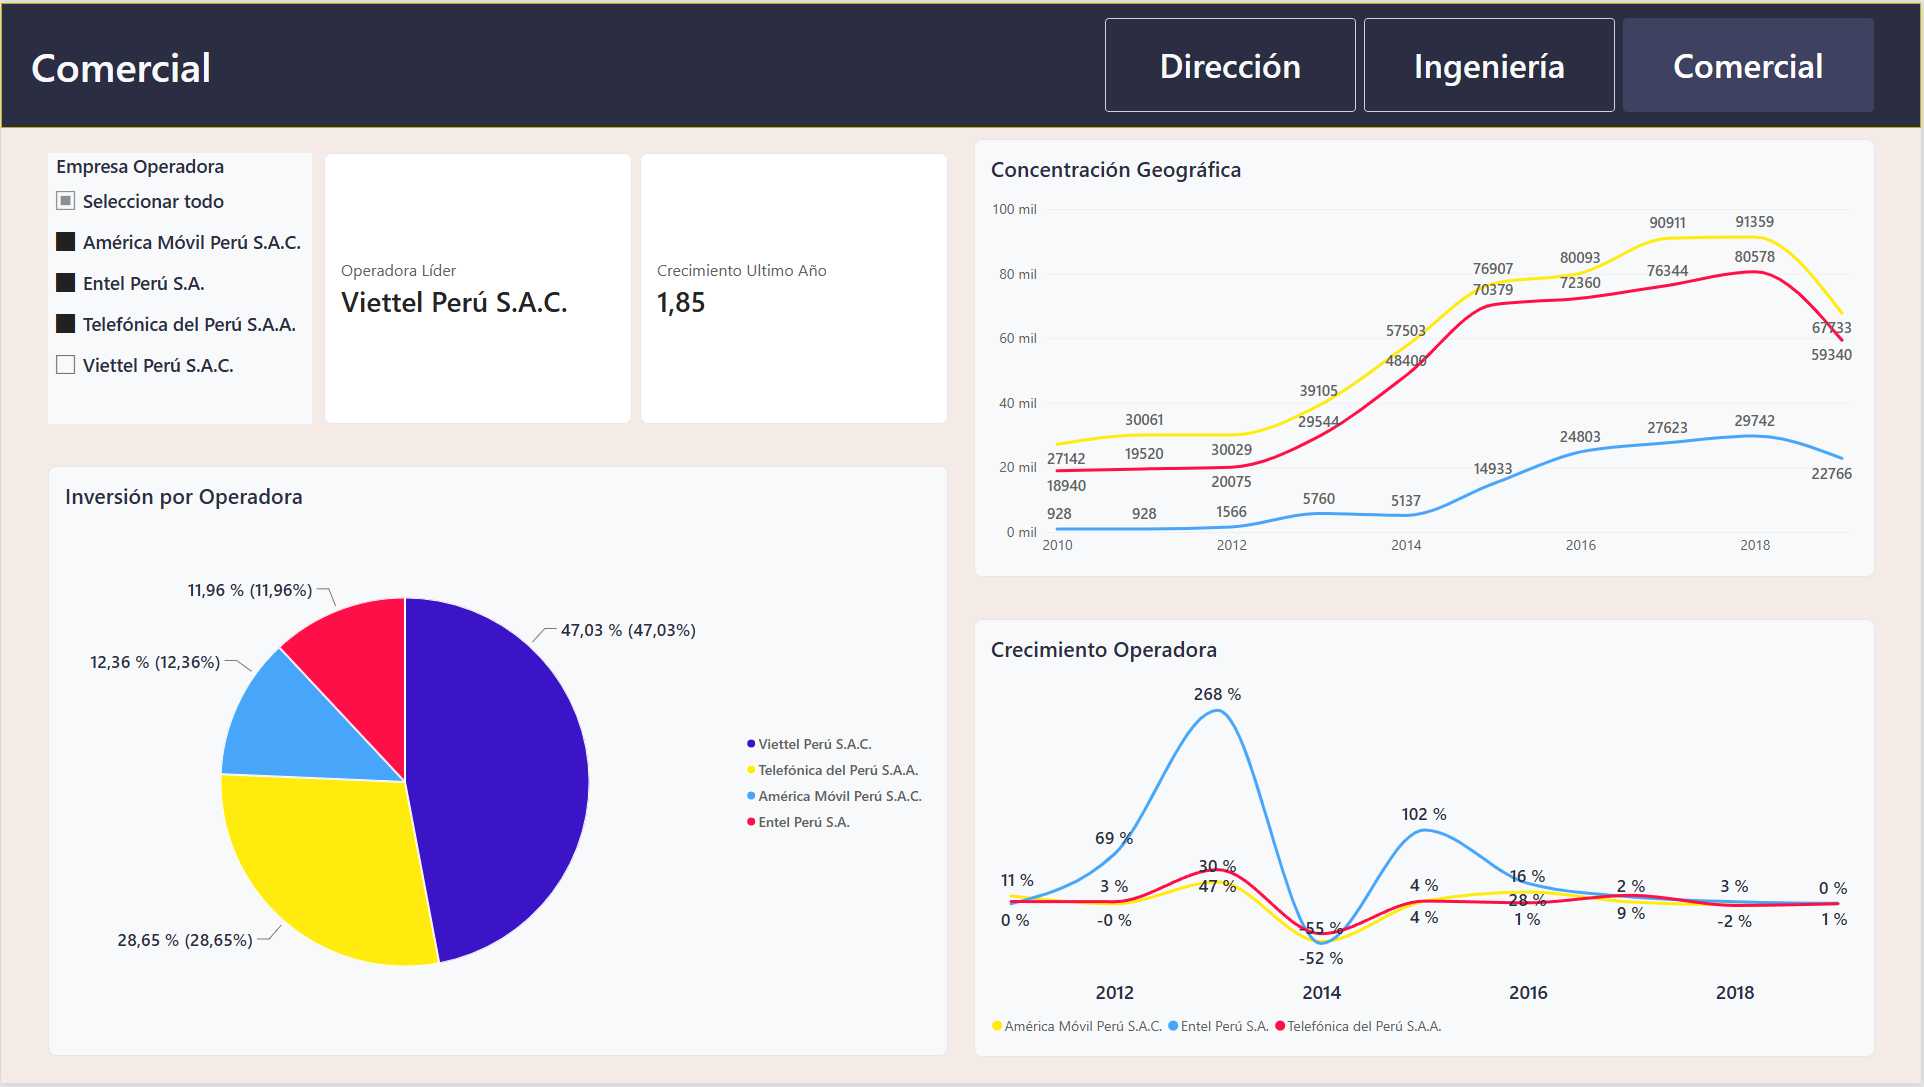

Layout of this report page (visuals, bound fields, positions):
{"tool":"powerbi","page":{"name":"Comercial","canvas":[1920,1080],"ordinal":2},"visuals":[{"type":"textbox","box":[0,0,13.7,120.1],"z":0},{"type":"shape","box":[0,0,1920,124.8],"z":1000},{"type":"lineChart","title":"Crecimiento Operadora","fields":{"Category":["CobHist_TrimestreAlto.anio"],"Series":["CobHist_TrimestreAlto.empresa_operadora"],"Y":["_Medidas.Crecimiento % Historico"]},"box":[972.6,615.9,901.1,437.8],"z":2000},{"type":"lineChart","title":"Concentración Geográfica","fields":{"Category":["cobertura_historica.anio"],"Series":["cobertura_historica.empresa_operadora"],"Y":["Sum(cobertura_historica.centros_con_cobertura)"]},"box":[972.6,136.3,901.1,437.8],"z":3000},{"type":"slicer","fields":{"Values":["Dim_Operadoras.empresa_operadora"]},"box":[47.1,149.8,264.2,270.9],"z":4000},{"type":"pieChart","title":"Inversión por Operadora","fields":{"Category":["cobertura_movil.empresa_operadora"],"Y":["_Medidas.Participacion Operadora"]},"box":[47.1,462.8,900.3,590.6],"z":5000},{"type":"pageNavigator","box":[1103.9,15.1,770.7,94.2],"z":6000},{"type":"cardVisual","fields":{"Data":["_Medidas.Operadora Líder","_Medidas.Crecimiento Ultimo Año"]},"box":[323.1,149.8,624.3,270.9],"z":7001}]}

Visuals, with their boxes in screenshot pixels (x1, y1, x2, y2), scaled from the page's 1920x1080 canvas onto the 1924x1087 screenshot:
textbox: Rect(0, 0, 14, 121)
shape: Rect(0, 0, 1923, 126)
"Crecimiento Operadora" lineChart: Rect(975, 620, 1878, 1061)
"Concentración Geográfica" lineChart: Rect(975, 137, 1878, 578)
slicer - Dim_Operadoras.empresa_operadora: Rect(47, 151, 312, 423)
"Inversión por Operadora" pieChart: Rect(47, 466, 949, 1060)
pageNavigator: Rect(1106, 15, 1879, 110)
cardVisual - _Medidas.Operadora Líder x _Medidas.Crecimiento Ultimo Año: Rect(324, 151, 949, 423)
